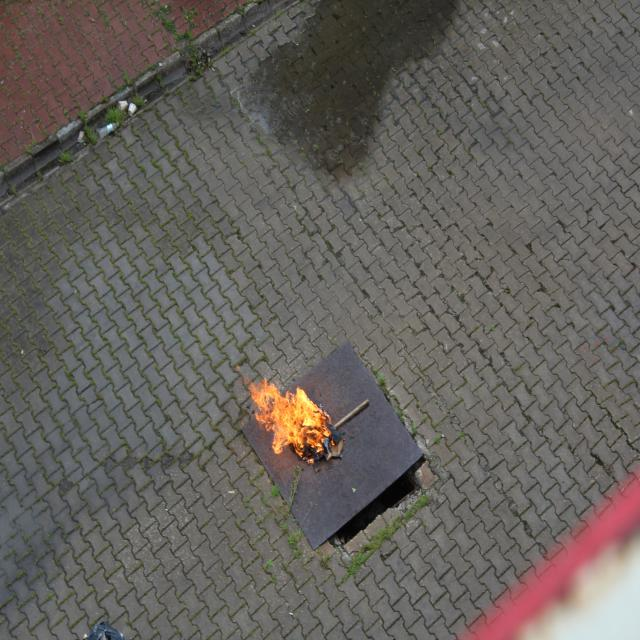fire: (247, 378, 332, 472)
